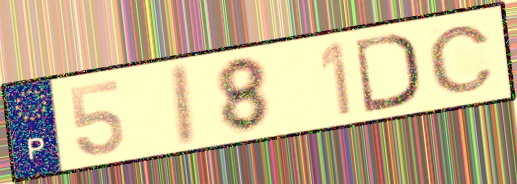1: (317, 38, 355, 120)
5: (65, 76, 127, 157)
8: (213, 54, 274, 136)
C: (425, 23, 498, 95)
D: (351, 30, 422, 116)
I: (172, 60, 201, 150)
